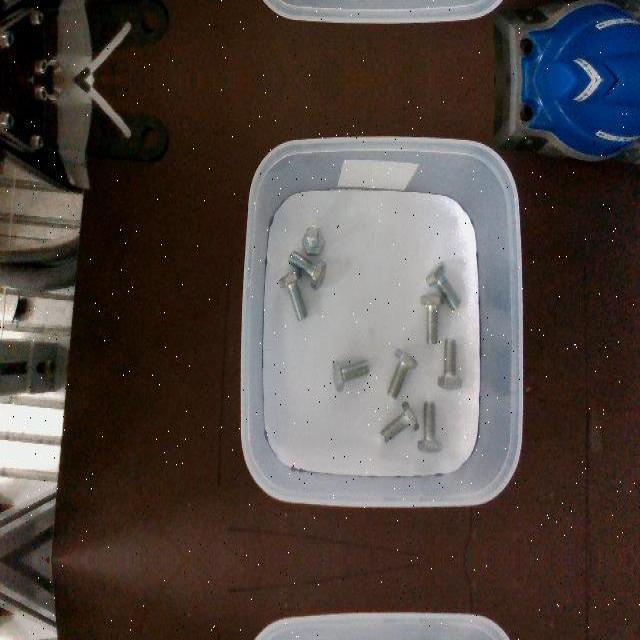screw: (425, 260, 462, 312), (380, 400, 419, 442), (278, 268, 308, 320), (387, 347, 418, 397), (288, 250, 327, 288), (437, 338, 462, 390), (332, 358, 369, 392), (418, 401, 442, 453), (419, 293, 443, 343), (302, 225, 324, 255)
